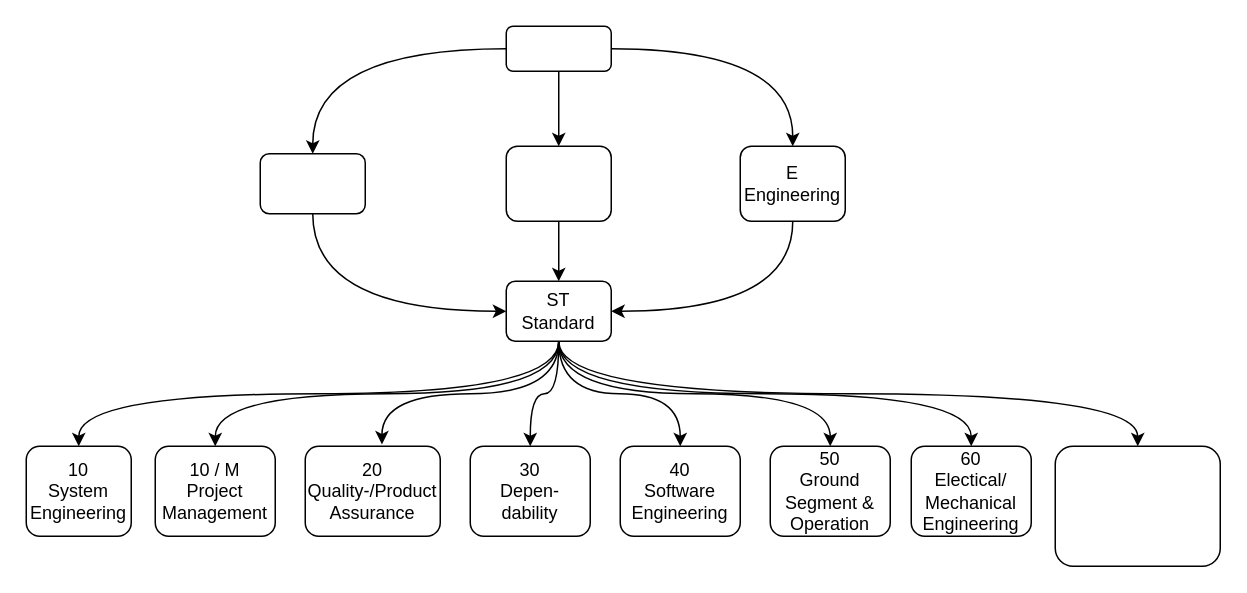
Image size: 1247x593. Some labels were removed from this diagram. Each missing label, with the centre of its shape:
70 Electrical, Electronic & Electromechanical Components: (x=1137, y=505)
ECSS-: (x=558, y=48)
M Managment: (x=312, y=183)
Q PA/Quality: (x=558, y=183)
